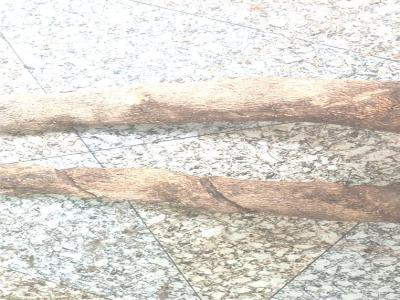Root: (0, 162, 399, 222), (0, 77, 399, 133)
